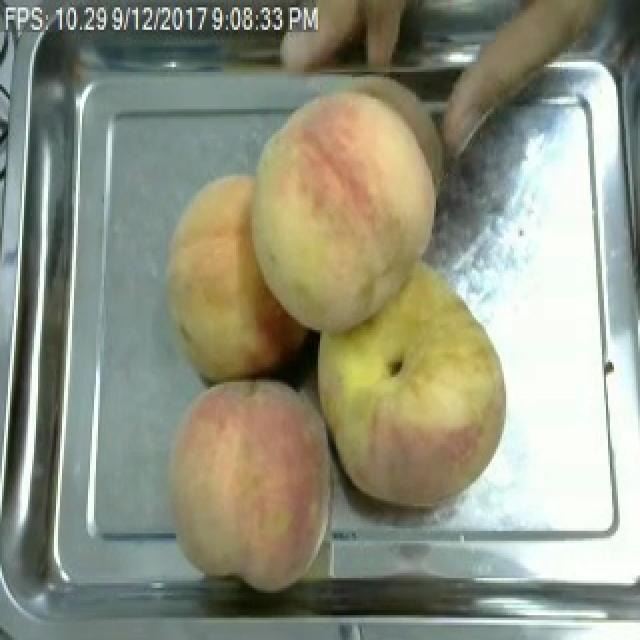Fruit: (156, 151, 434, 362), (298, 268, 516, 516), (158, 370, 348, 602)
